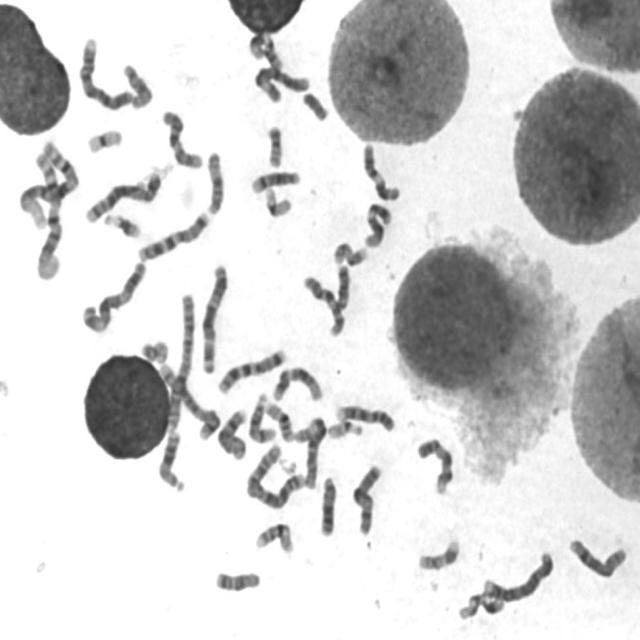A1: (15, 136, 81, 230), (30, 145, 66, 283)
A2: (162, 287, 196, 433), (242, 440, 308, 511)
A3: (78, 256, 149, 335), (198, 259, 231, 375)
B4: (76, 32, 138, 112), (479, 546, 556, 604)
B5: (156, 358, 222, 442), (82, 166, 163, 225)
C10: (299, 270, 347, 338), (158, 105, 205, 171)
C11: (359, 139, 402, 203), (246, 28, 285, 72)
C12: (269, 362, 324, 403), (361, 198, 394, 249)
C6: (250, 61, 312, 106), (299, 412, 328, 492)
C7: (133, 207, 212, 263), (214, 344, 289, 396)
C8: (565, 534, 629, 581), (214, 403, 250, 461)
C9: (414, 434, 456, 496), (332, 400, 397, 433)
D13: (154, 426, 187, 494), (316, 471, 339, 538)
D14: (245, 388, 278, 445), (248, 166, 303, 196)
D15: (119, 59, 154, 110), (201, 147, 226, 217)
E16: (252, 518, 296, 555), (262, 398, 296, 443)
E17: (414, 534, 462, 572), (330, 238, 370, 268)
E18: (212, 566, 262, 594), (331, 262, 352, 312)
F19: (83, 124, 124, 155), (262, 184, 294, 219)
F20: (263, 122, 284, 170), (138, 336, 170, 366)
G21: (100, 208, 142, 241), (477, 592, 506, 616)
G22: (324, 416, 364, 441), (454, 590, 483, 624)
X: (350, 460, 384, 538)
Y: (299, 88, 330, 123)
